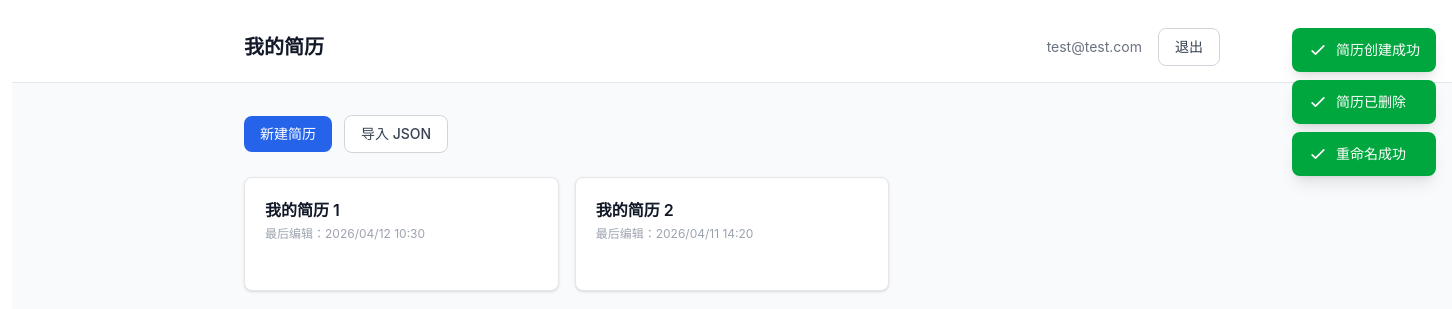
Scenario: ResumeList 页面 › 跳转编辑器 › 点击卡片跳转到编辑器页面
The width and height of the screenshot is (1452, 309).
Note: 点击卡片（而非操作按钮）
Click the heading "我的简历 1": (302, 210) [265, 200, 340, 220]
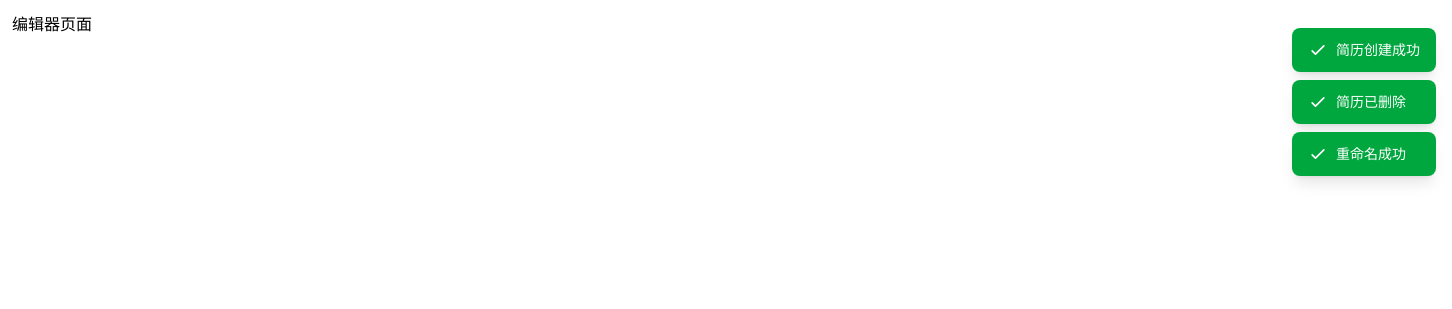
Check: the text "编辑器页面" is shown, box [12, 14, 92, 34]
